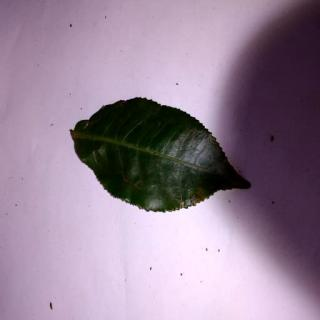Bird Eye Spot: (71, 96, 253, 217)
